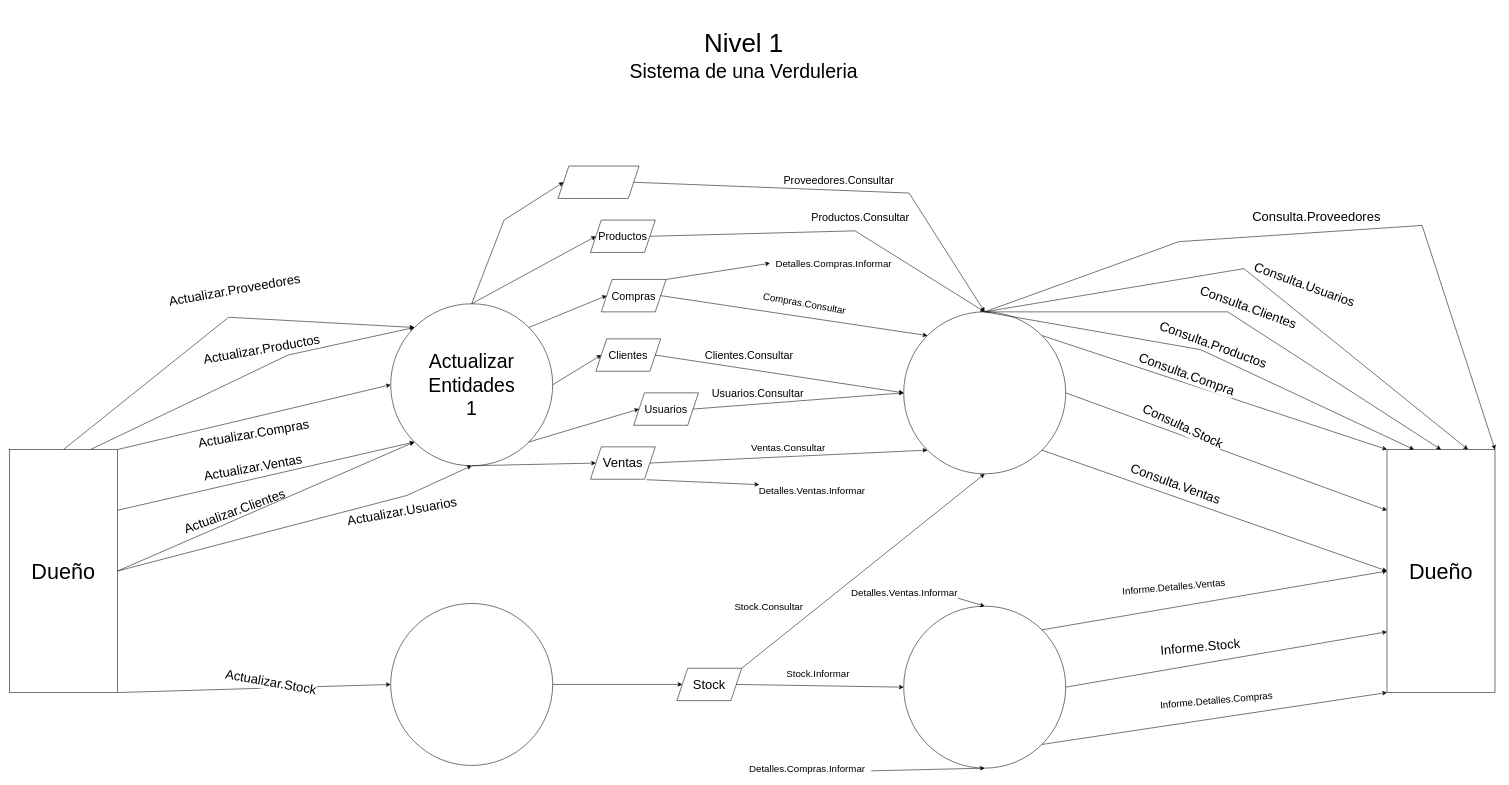
Image size: 1509x785. Some labels were removed from this diagram. The centre of each missing label's shape, as x and y in pixels:
"Actualizar Eventos 2" belongs at [471,684].
"Emitir Consultas 3" belongs at [984,392].
"Emitir Informes 4" belongs at [984,687].
"Proveedores" belongs at [598,182].
